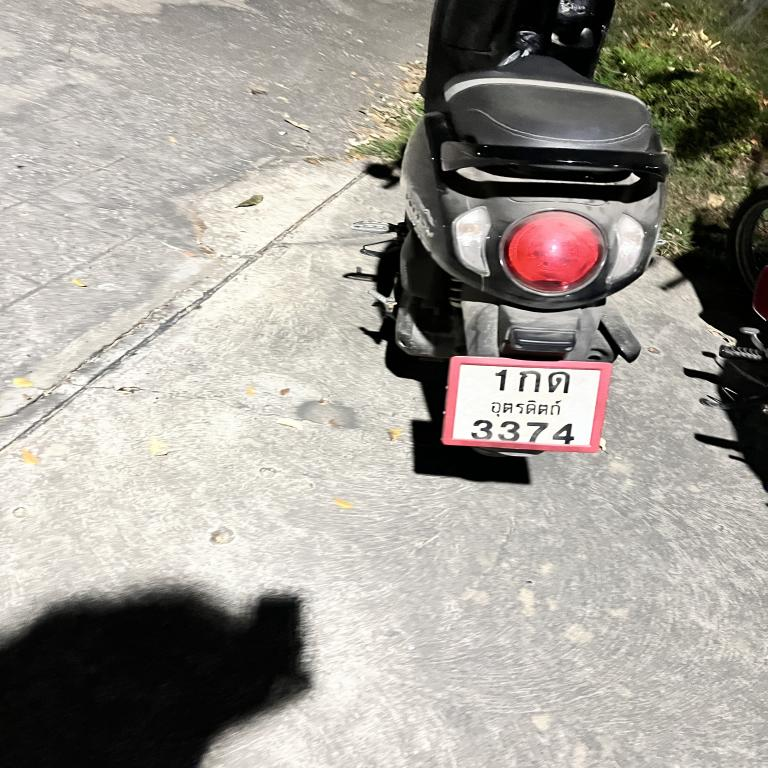license plate: (446, 359, 602, 451)
